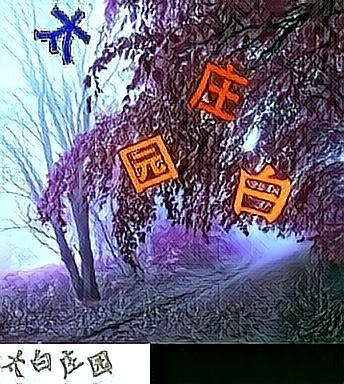B0D7: (228, 160, 292, 226)
CCAB: (31, 4, 95, 70)
D4B0: (118, 129, 182, 195)
D7AF: (187, 56, 251, 122)
